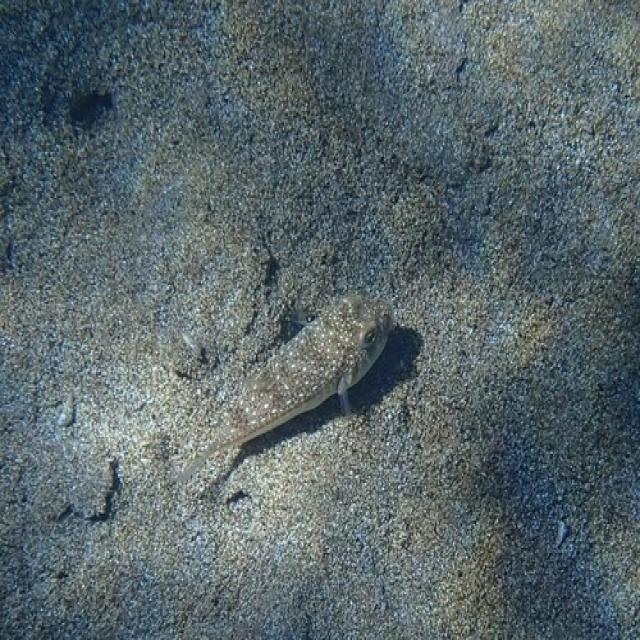Balik: (181, 294, 392, 481)
